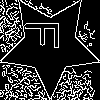F: (25, 20, 68, 50)
